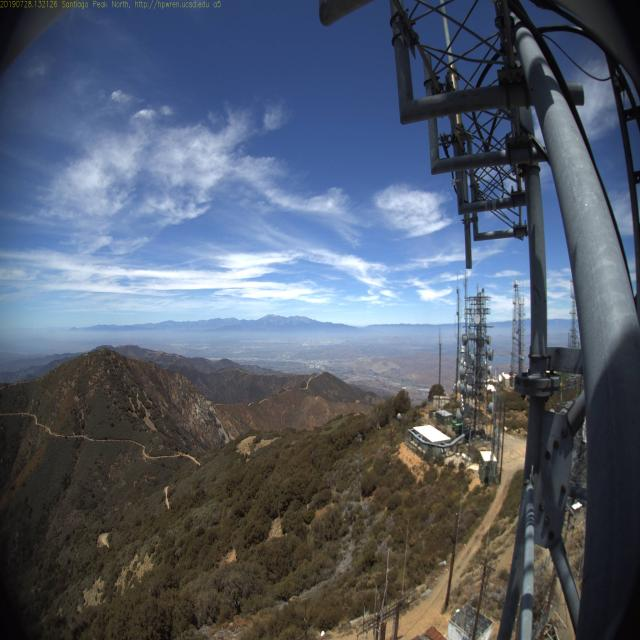smoke: (136, 330, 156, 349)
